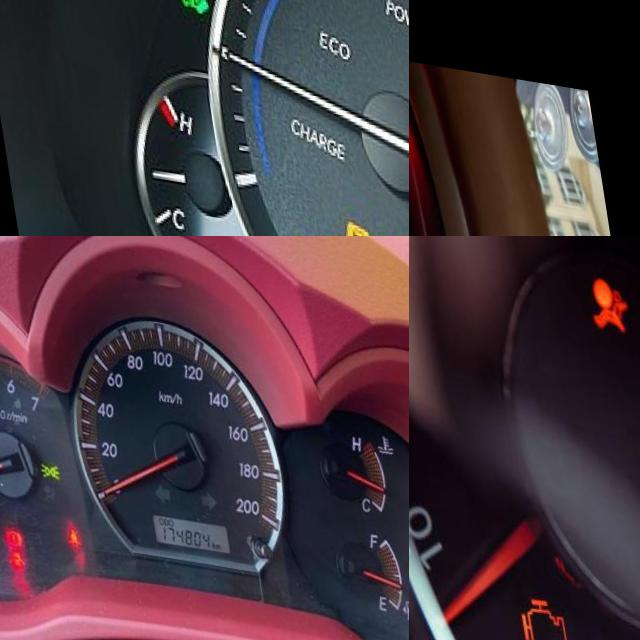Seat Belt: (53, 520, 67, 541)
